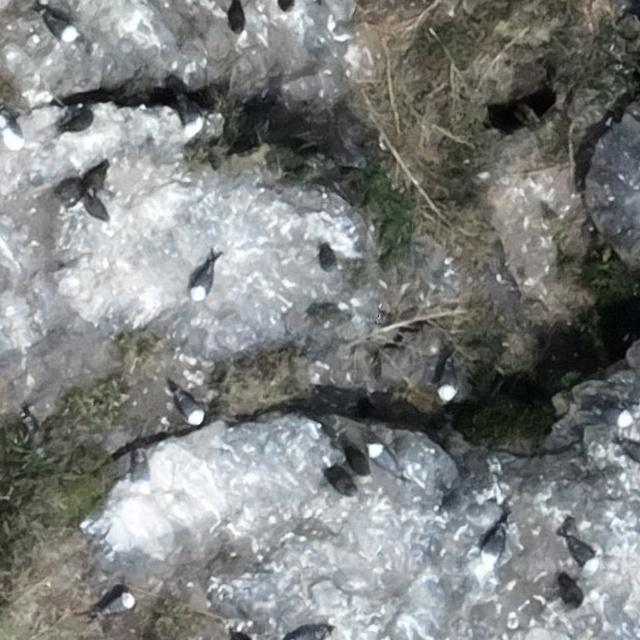umineko: (367, 442, 408, 482), (478, 523, 508, 571), (132, 452, 154, 497), (1, 116, 26, 154), (180, 95, 202, 138), (567, 538, 599, 567), (45, 15, 76, 39), (179, 395, 203, 423), (600, 407, 632, 427), (438, 364, 456, 399), (192, 266, 212, 296), (105, 593, 134, 613), (623, 443, 640, 463)
